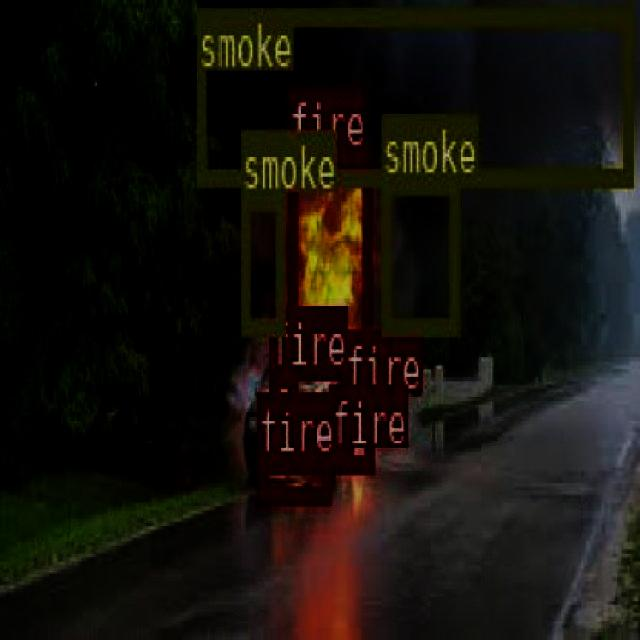fire: (285, 150, 370, 376), (257, 454, 328, 500), (342, 388, 373, 468), (267, 366, 296, 408), (328, 446, 346, 472)
smoke: (196, 5, 630, 184), (380, 175, 457, 332), (240, 191, 282, 331)
